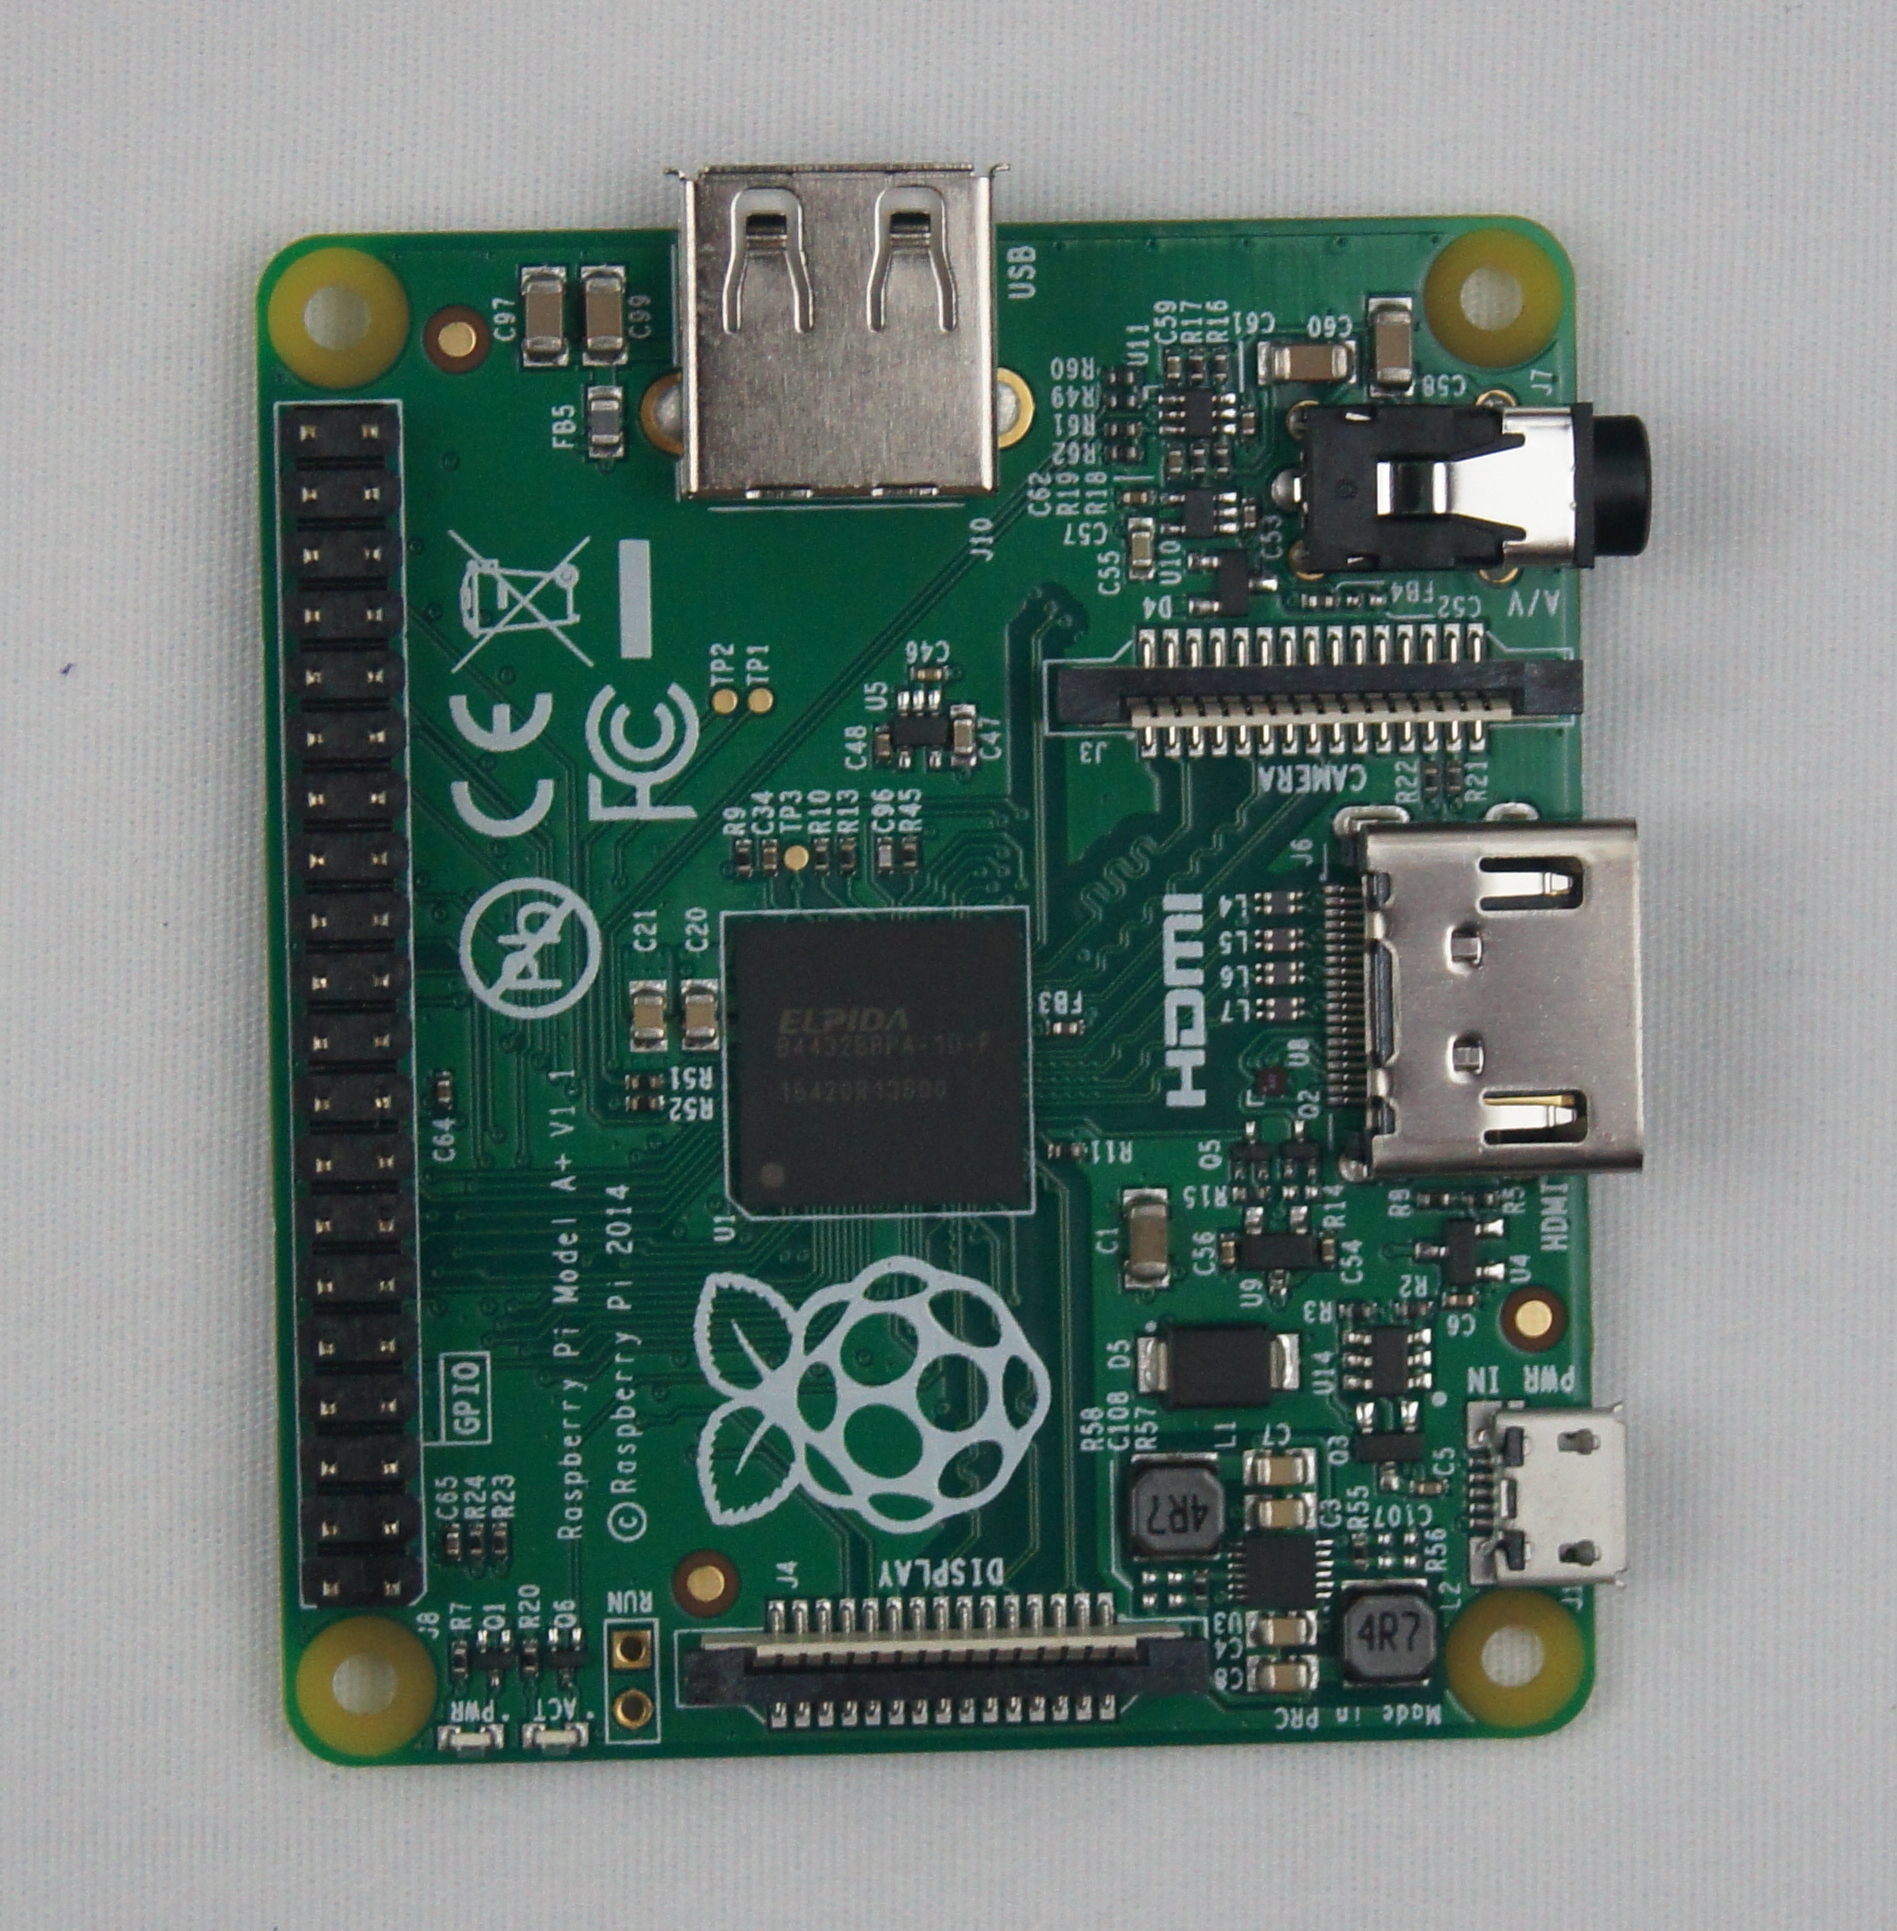kondensator: (1371, 293, 1416, 387), (526, 264, 568, 365), (1122, 1190, 1162, 1287), (1259, 340, 1346, 380), (580, 266, 618, 347), (1244, 1450, 1320, 1485), (1244, 1613, 1313, 1648), (1251, 1657, 1317, 1693), (679, 981, 716, 1045), (1244, 1493, 1319, 1525), (631, 985, 665, 1051), (1133, 517, 1153, 575), (1411, 1476, 1452, 1504), (952, 712, 973, 762), (1449, 1290, 1485, 1315), (912, 662, 945, 684), (870, 729, 891, 761), (876, 835, 893, 872), (1320, 1235, 1343, 1262), (434, 1073, 452, 1106), (1237, 410, 1258, 436), (759, 839, 775, 873), (445, 1528, 460, 1558), (1218, 1236, 1233, 1264), (1166, 446, 1180, 476), (1160, 354, 1176, 379), (1122, 491, 1148, 504)
